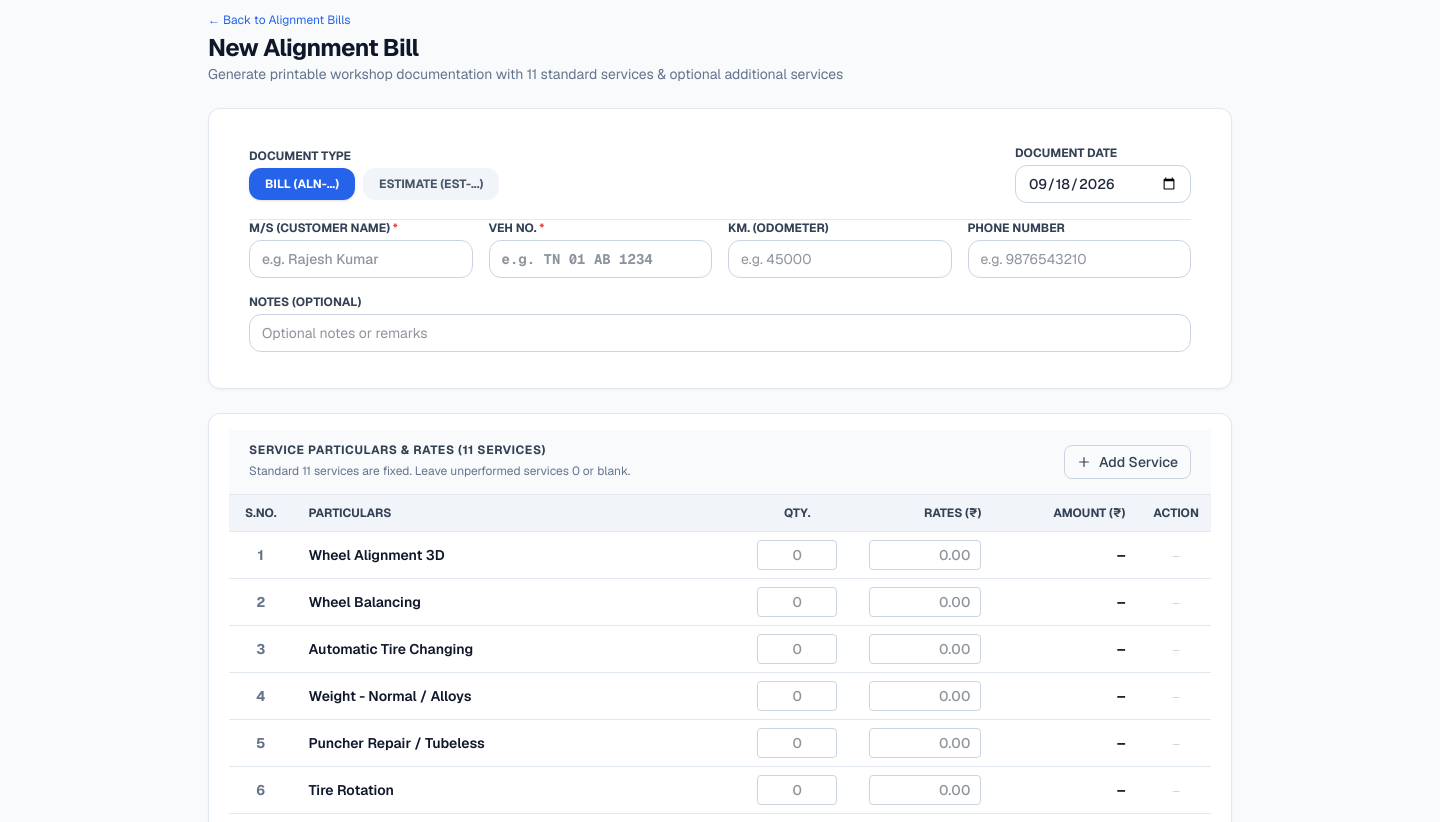
Test: NewAlignmentBillPage UI Component UX Tests › sanitizes Rates field to decimal numbers only
Step 1. Type "abc450.50.99xyz" into the field with placeholder "0.00" in the row of "Wheel Alignment 3D" → (925, 555), box x1=869 y1=540 x2=981 y2=570
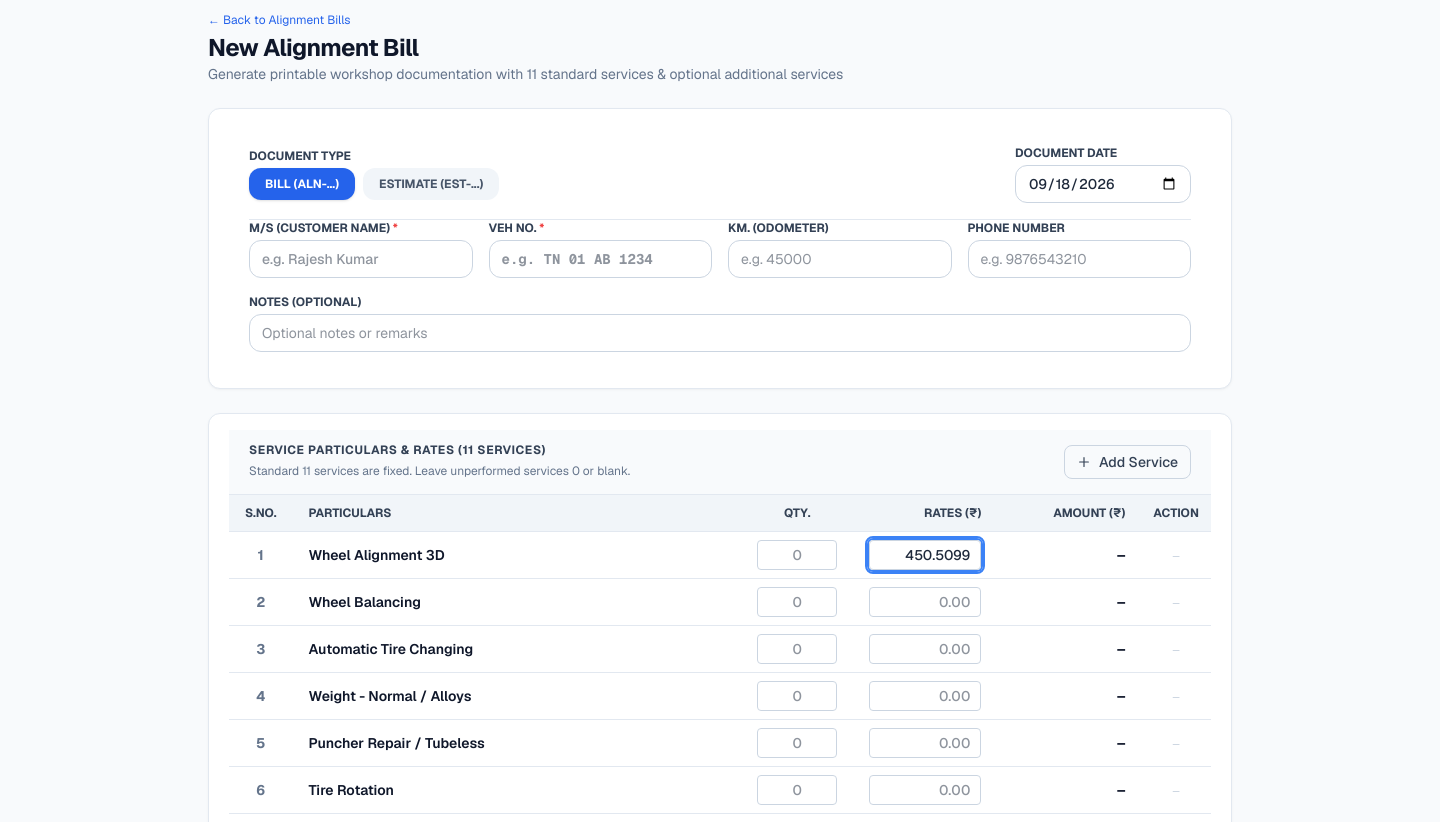
Result: the field with placeholder "0.00" holds "450.5099" at x1=869 y1=540 x2=981 y2=570
